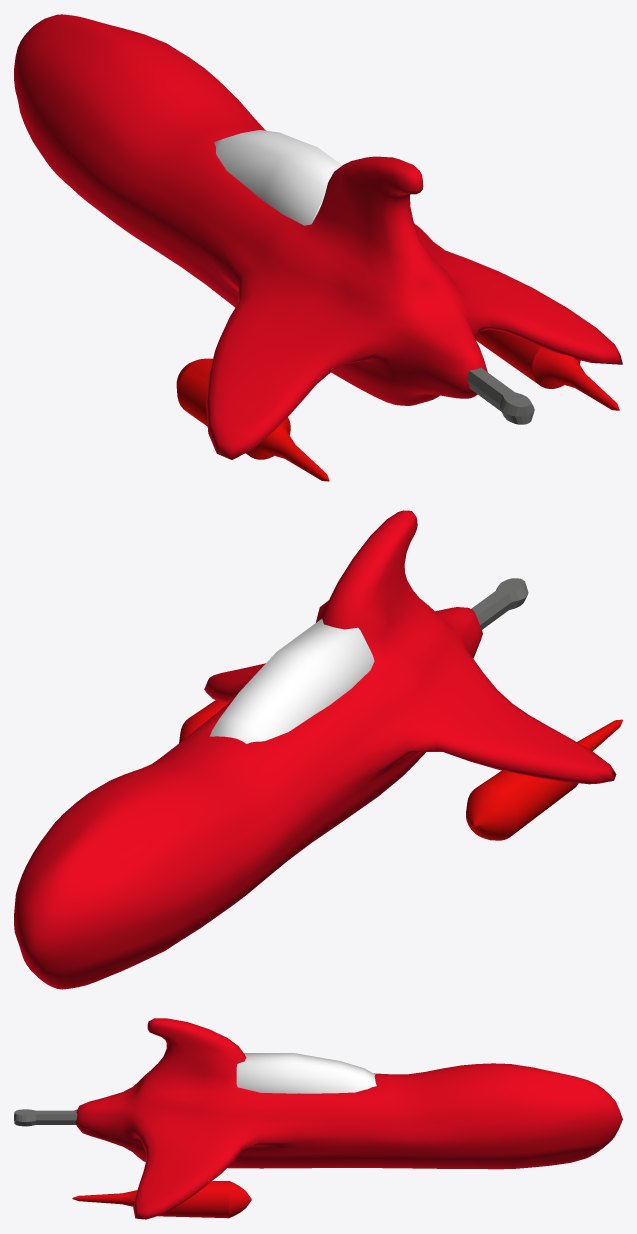
The model's file is playership.glb.
3 views of the same model, one above another, from view 1: azimuth 30°, elevation 25°; view 2: azimuth 150°, elevation 25°; view 3: azimuth 270°, elevation 25° (orthographic). The views are drawn at different scales.
Parts seen in each view (by area): view 1: Cube, Cube.001, Cylinder.001, Cylinder, Cube.002; view 2: Cube, Cube.001, Cylinder, Cube.002, Cylinder.001; view 3: Cube, Cube.001, Cylinder.001, Cube.002.
Boxes of the visible parts, left/top/right/bottom form: Cube: left=14, top=14, right=622, bottom=459; Cube.001: left=214, top=130, right=341, bottom=225; Cylinder.001: left=475, top=329, right=619, bottom=410; Cylinder: left=176, top=358, right=329, bottom=481; Cube.002: left=467, top=367, right=534, bottom=424; Cube: left=14, top=510, right=616, bottom=989; Cube.001: left=210, top=618, right=374, bottom=743; Cylinder: left=466, top=719, right=622, bottom=840; Cube.002: left=471, top=578, right=528, bottom=629; Cylinder.001: left=179, top=700, right=228, bottom=743; Cube: left=75, top=1018, right=622, bottom=1219; Cube.001: left=236, top=1053, right=376, bottom=1093; Cylinder.001: left=72, top=1181, right=251, bottom=1218; Cube.002: left=14, top=1109, right=77, bottom=1126.
Size of the model in its own units: 7.67 by 4.57 by 16.32.
